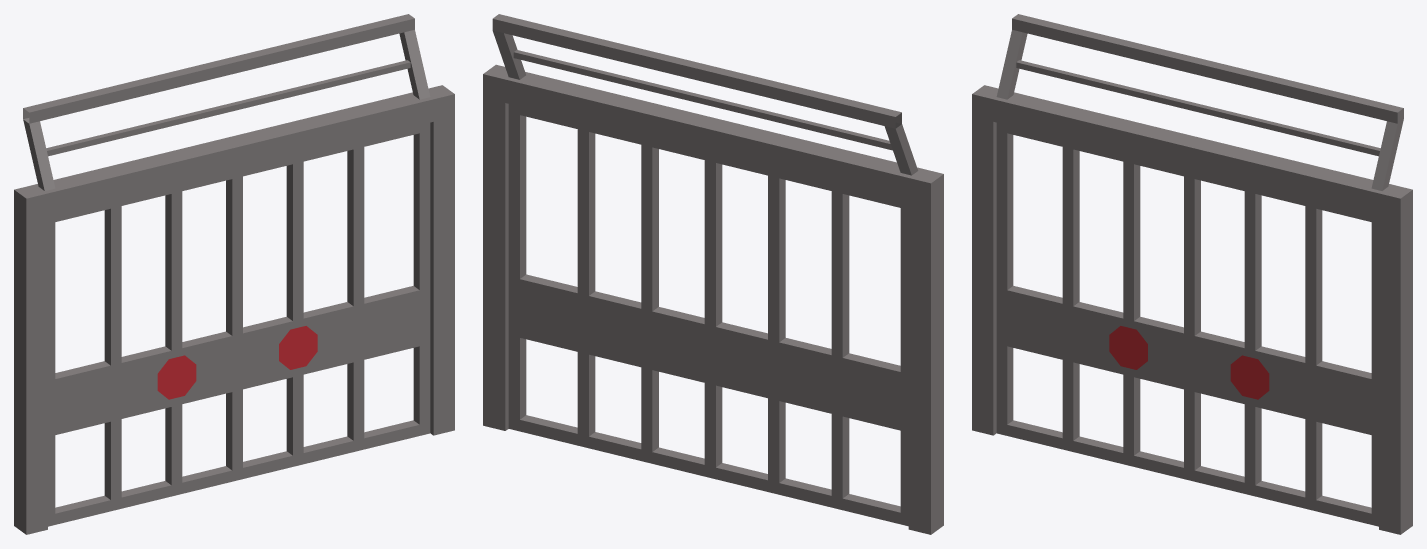
The model's file is military-gate.glb.
3 renders of one model, left to right at view 1: azimuth 30°, elevation 25°; view 2: azimuth 150°, elevation 25°; view 3: azimuth 330°, elevation 25°, orthographic. The views are drawn at different scales.
Visible parts, largest first — view 1: military-gate-main, military-gate-frame; view 2: military-gate-main, military-gate-frame; view 3: military-gate-main, military-gate-frame.
Part boxes in pixels (x1,y1,x2,y2): military-gate-main: [48, 122, 430, 526]; military-gate-frame: [14, 14, 454, 534]; military-gate-main: [508, 104, 908, 526]; military-gate-frame: [483, 14, 943, 534]; military-gate-main: [996, 122, 1378, 526]; military-gate-frame: [972, 14, 1412, 534].
Size of the model in its own units: 4 by 3.6 by 0.4.
1 material, 1 textured.
